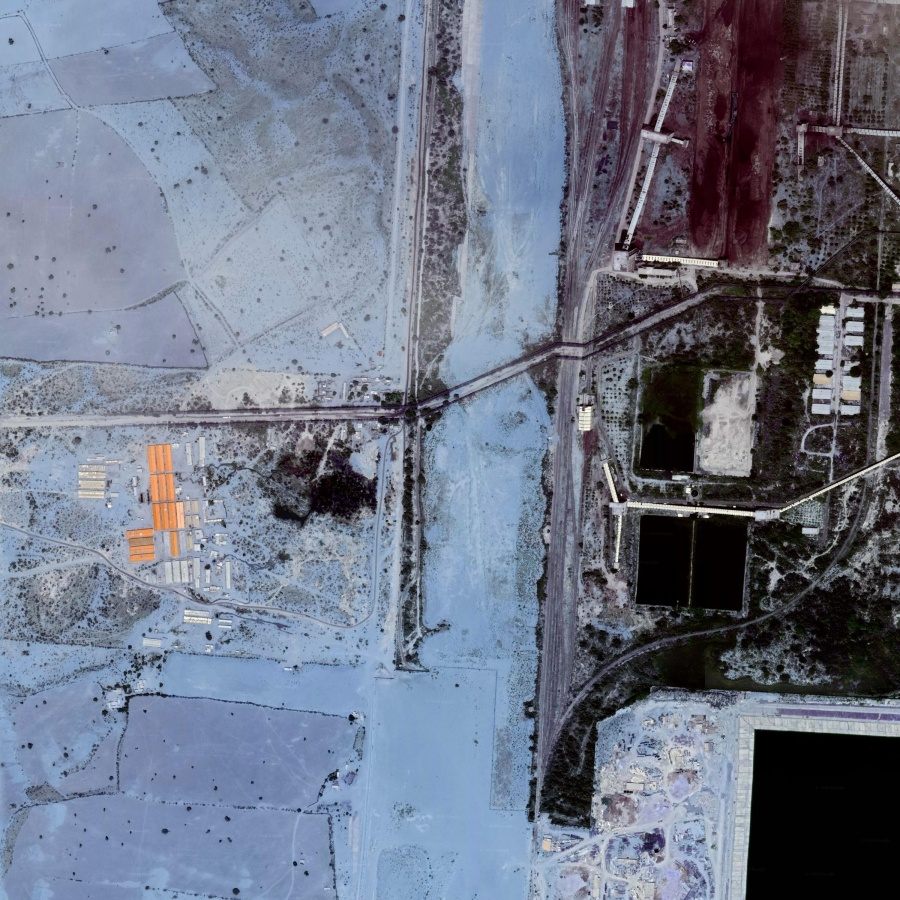PowerPlant: (560, 5, 795, 297)
